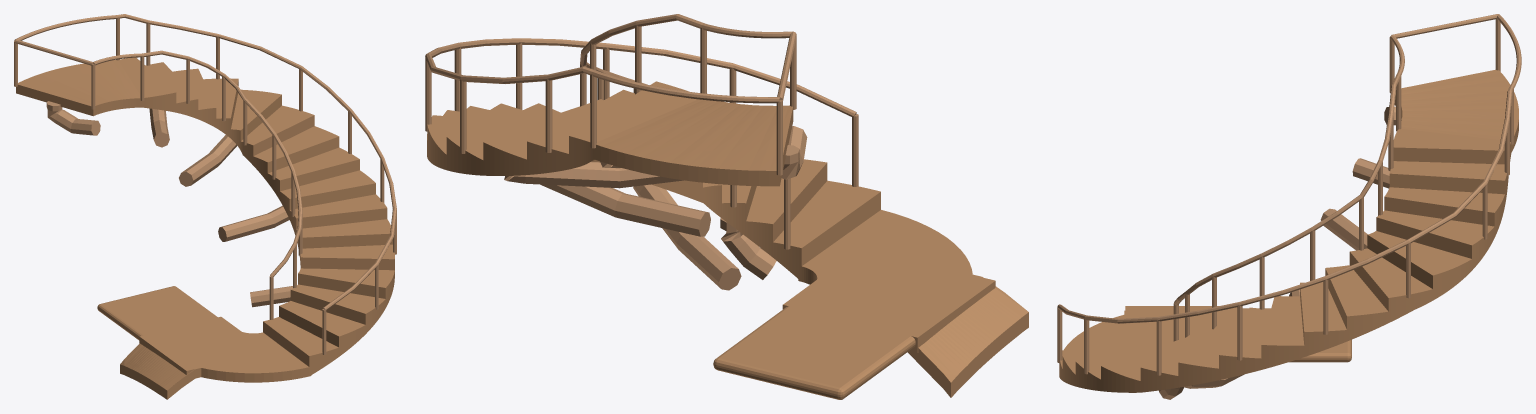
The model's file is native-gallery-entry.glb.
3 renders of one model, left to right at view 1: azimuth 30°, elevation 25°; view 2: azimuth 150°, elevation 25°; view 3: azimuth 270°, elevation 25°, orthographic. The views are drawn at different scales.
Visible parts, largest first — view 1: walk-top/real-sixteen-stairs, solid-body/real-sixteen-stairs, walk-top/native-interior, solid-rail/stair-edge-1, walk-top/terrain-threshold, solid-rail/stair-edge--1, solid-bough/native-contact-2, solid-bough/native-contact-3, walk-top/front-junction, walk-top/aligned-opening, solid-bough/native-contact-5, solid-body/terrain-threshold (+3 smaller); view 2: walk-top/real-sixteen-stairs, walk-top/native-interior, solid-body/real-sixteen-stairs, walk-top/terrain-threshold, solid-rail/stair-edge-1, walk-top/aligned-opening, solid-bough/native-contact-2, solid-bough/native-contact-1, solid-bough/native-contact-3, walk-top/front-junction, solid-body/terrain-threshold, solid-rail/stair-edge--1 (+5 smaller); view 3: walk-top/real-sixteen-stairs, solid-body/real-sixteen-stairs, solid-rail/stair-edge-1, solid-rail/stair-edge--1, walk-top/aligned-opening, walk-top/front-junction, walk-top/native-interior, solid-bough/native-contact-3, solid-rail/visible-terminal-guard, solid-bough/native-contact-4.
Boxes of the visible parts, x1,y1,x2,y2 form: walk-top/real-sixteen-stairs: [18, 57, 394, 373]; solid-body/real-sixteen-stairs: [16, 80, 394, 382]; walk-top/native-interior: [97, 286, 238, 351]; solid-rail/stair-edge-1: [14, 14, 396, 310]; walk-top/terrain-threshold: [120, 327, 226, 390]; solid-rail/stair-edge--1: [93, 50, 302, 276]; solid-bough/native-contact-2: [218, 205, 289, 241]; solid-bough/native-contact-3: [179, 135, 237, 186]; walk-top/front-junction: [157, 324, 251, 363]; walk-top/aligned-opening: [140, 316, 259, 370]; solid-bough/native-contact-5: [46, 101, 100, 135]; solid-body/terrain-threshold: [120, 364, 201, 399]; walk-top/real-sixteen-stairs: [427, 81, 972, 301]; walk-top/native-interior: [713, 280, 946, 394]; solid-body/real-sixteen-stairs: [427, 107, 880, 284]; walk-top/terrain-threshold: [854, 264, 1028, 382]; solid-rail/stair-edge-1: [425, 38, 856, 117]; walk-top/aligned-opening: [783, 248, 994, 337]; solid-bough/native-contact-2: [541, 184, 710, 236]; solid-bough/native-contact-1: [633, 184, 741, 290]; solid-bough/native-contact-3: [504, 161, 683, 188]; walk-top/front-junction: [812, 259, 966, 323]; solid-body/terrain-threshold: [907, 312, 1028, 397]; solid-rail/stair-edge--1: [580, 14, 792, 84]; walk-top/real-sixteen-stairs: [1060, 69, 1518, 380]; solid-body/real-sixteen-stairs: [1059, 95, 1518, 392]; solid-rail/stair-edge-1: [1057, 14, 1521, 323]; solid-rail/stair-edge--1: [1174, 35, 1404, 305]; walk-top/aligned-opening: [1125, 306, 1237, 350]; walk-top/front-junction: [1124, 306, 1230, 348]; walk-top/native-interior: [1190, 308, 1351, 358]; solid-bough/native-contact-3: [1320, 208, 1367, 250]; solid-rail/visible-terminal-guard: [1391, 14, 1497, 38]; solid-bough/native-contact-4: [1352, 158, 1389, 188].
Size of the model in its own units: 2.11 by 1.93 by 2.55.
